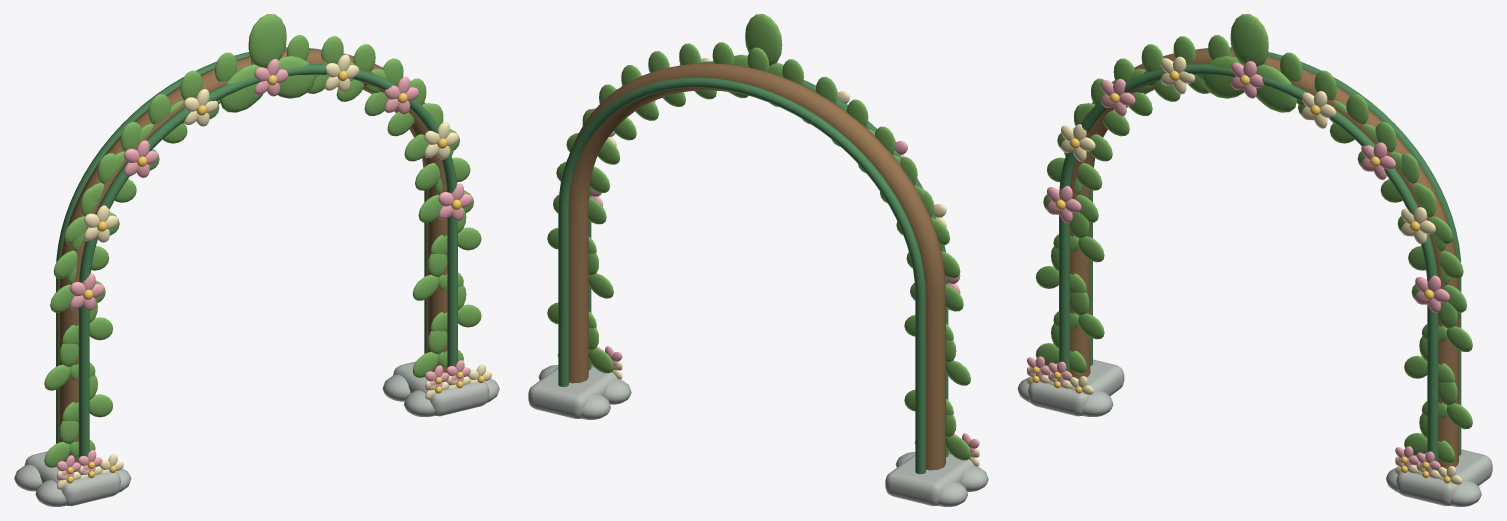
Rendered from decor-clover-arch.glb.
3 renders of one model, left to right at view 1: azimuth 30°, elevation 25°; view 2: azimuth 150°, elevation 25°; view 3: azimuth 330°, elevation 25°, orthographic. The views are drawn at different scales.
Visible parts, largest first — view 1: clover-arch-leaf, clover-arch-deep, clover-arch-stone, clover-arch-wood, clover-arch-pink, clover-arch-cream, clover-arch-gold; view 2: clover-arch-wood, clover-arch-leaf, clover-arch-deep, clover-arch-stone, clover-arch-pink, clover-arch-cream; view 3: clover-arch-leaf, clover-arch-deep, clover-arch-wood, clover-arch-stone, clover-arch-pink, clover-arch-cream, clover-arch-gold.
Part boxes in pixels (<box>): clover-arch-leaf: <box>44,14,481,467</box>; clover-arch-deep: <box>56,47,457,457</box>; clover-arch-stone: <box>14,361,499,506</box>; clover-arch-wood: <box>58,49,447,462</box>; clover-arch-pink: <box>57,59,472,480</box>; clover-arch-cream: <box>57,54,491,489</box>; clover-arch-gold: <box>66,70,484,483</box>; clover-arch-wood: <box>569,63,945,470</box>; clover-arch-leaf: <box>547,14,970,460</box>; clover-arch-deep: <box>558,61,948,474</box>; clover-arch-stone: <box>528,365,988,506</box>; clover-arch-pink: <box>590,85,979,457</box>; clover-arch-cream: <box>557,56,979,466</box>; clover-arch-leaf: <box>1035,14,1472,463</box>; clover-arch-deep: <box>1059,47,1461,470</box>; clover-arch-wood: <box>1070,49,1458,468</box>; clover-arch-stone: <box>1017,359,1492,506</box>; clover-arch-pink: <box>1027,61,1449,475</box>; clover-arch-cream: <box>1027,56,1462,486</box>; clover-arch-gold: <box>1032,70,1450,483</box>.
Bounding box in the file's own units: 6.24 × 5.69 × 1.05.
